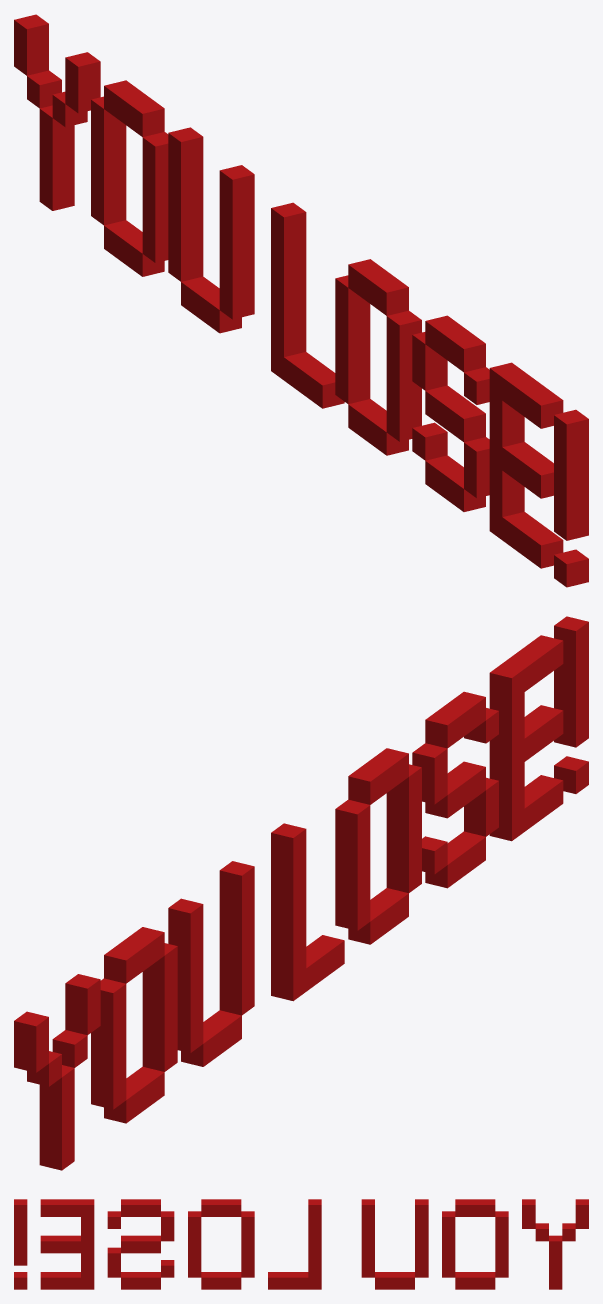
File: YouLoseText-0.obj
The picture shows the model from 3 angles, top to bottom: view 1: azimuth 30°, elevation 25°; view 2: azimuth 150°, elevation 25°; view 3: azimuth 270°, elevation 25°; orthographic projection. The views are drawn at different scales.
Bounding box in the file's own units: 0.1 × 0.7 × 4.3.
Materials: 1 (1 with a texture image).
